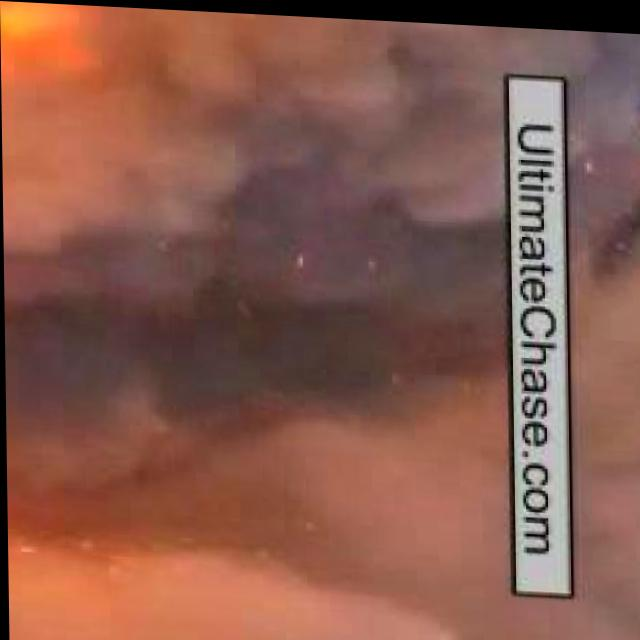Fire: (0, 0, 194, 106)
